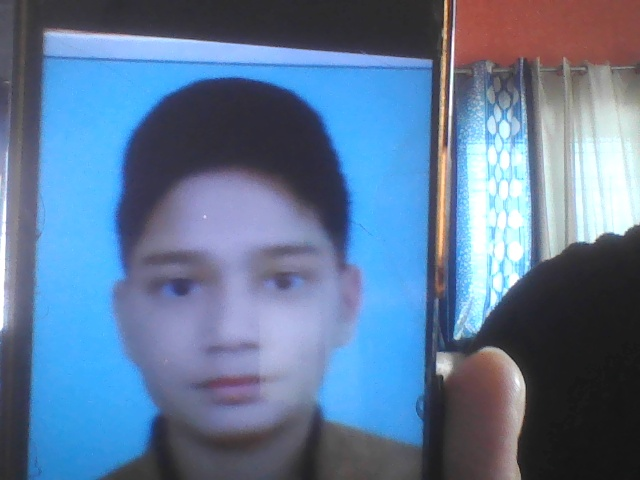fake: (103, 92, 374, 476)
